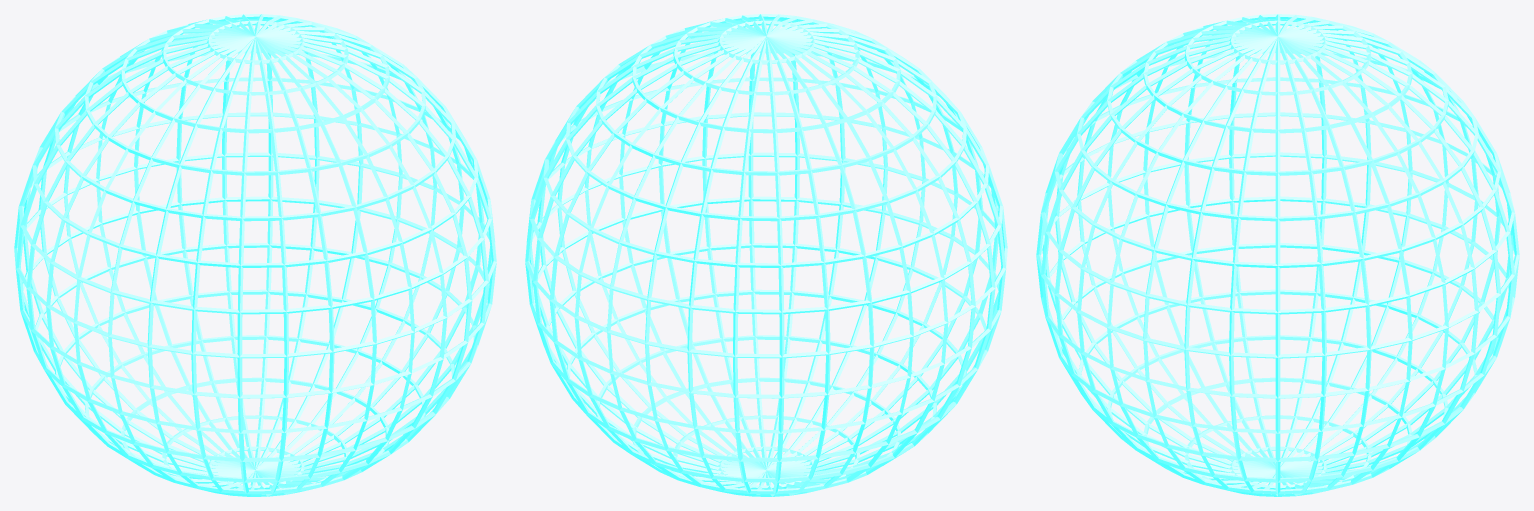
File: globe.glb
The picture shows the model from 3 angles, left to right: view 1: azimuth 30°, elevation 25°; view 2: azimuth 150°, elevation 25°; view 3: azimuth 270°, elevation 25°; orthographic projection.
Visible parts, largest first — view 1: Globe; view 2: Globe; view 3: Globe.
Boxes of the visible parts, left/top/right/bottom form: Globe: left=14, top=14, right=496, bottom=496; Globe: left=525, top=14, right=1007, bottom=496; Globe: left=1036, top=14, right=1519, bottom=496.
Size of the model in its own units: 1.98 by 1.98 by 1.98.
